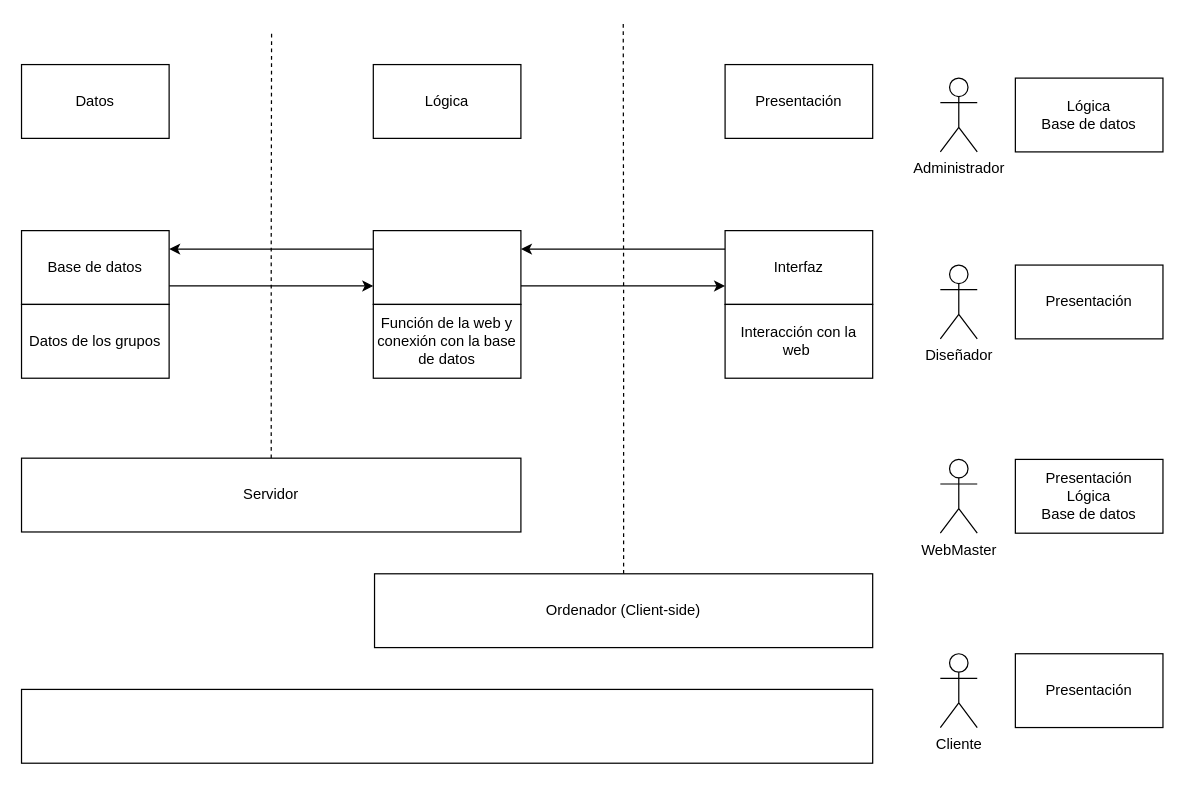
The diagram is 1184 pixels wide and 786 high, and some of its shapes have lost their labels. The centre of each missing label's shape, as x and y in pixels:
"Aplicativo" goes at point (446, 266).
"Routers, redes y cables" goes at point (446, 725).
